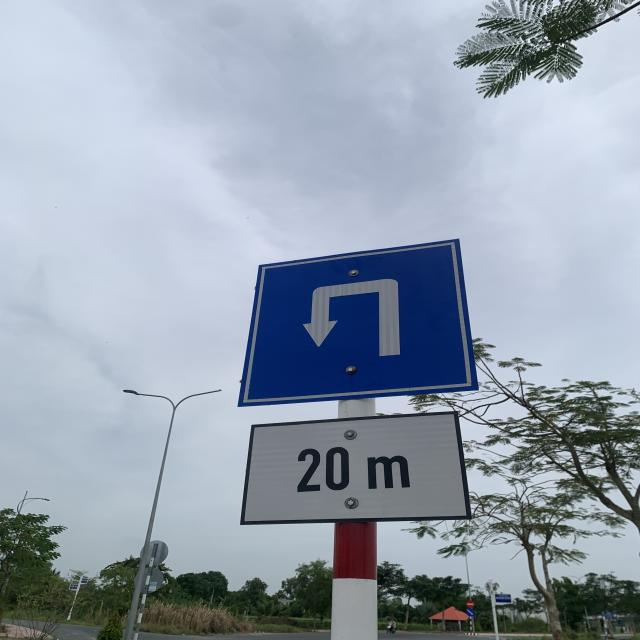Den_Giao_Thong: (238, 234, 476, 397)
